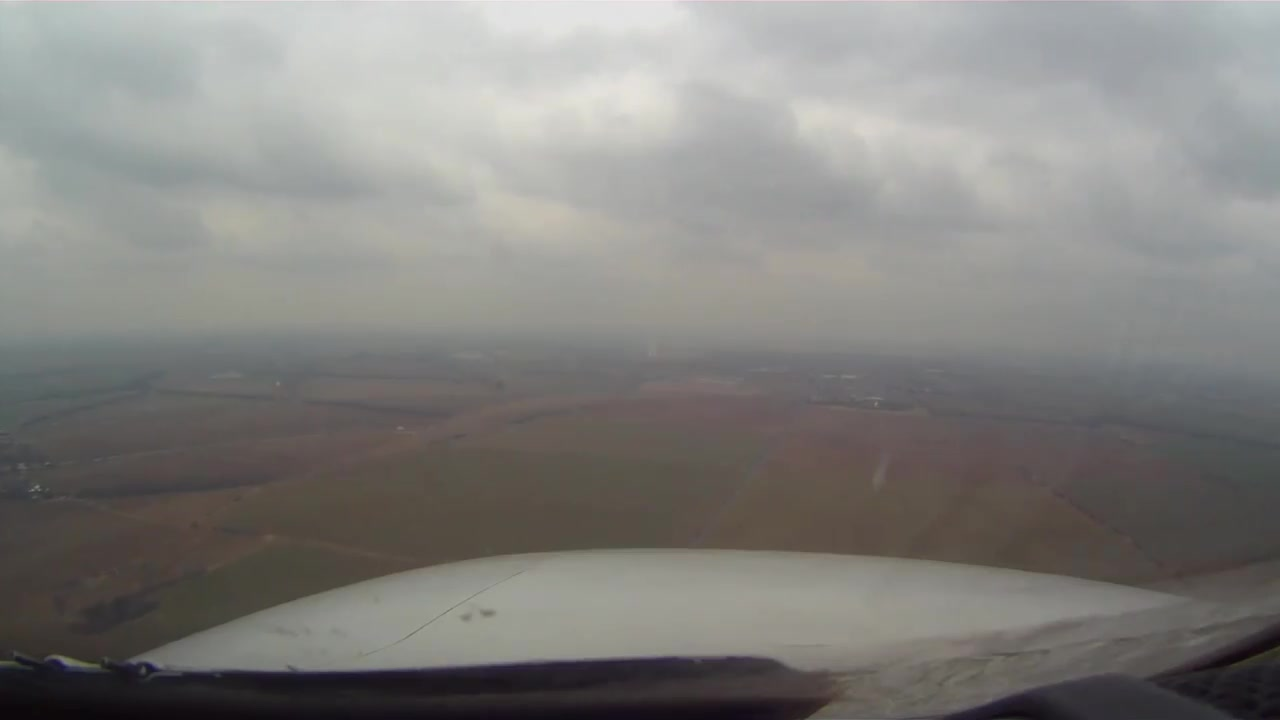runway: (646, 334, 662, 363)
